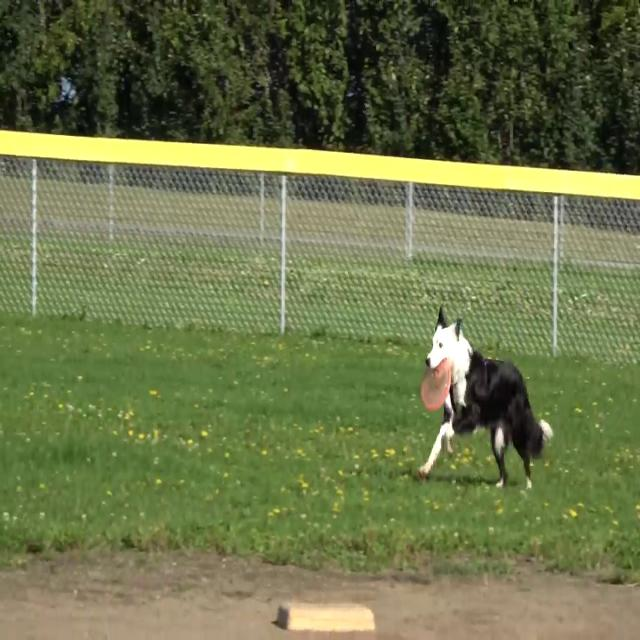Dog: (416, 303, 556, 493)
